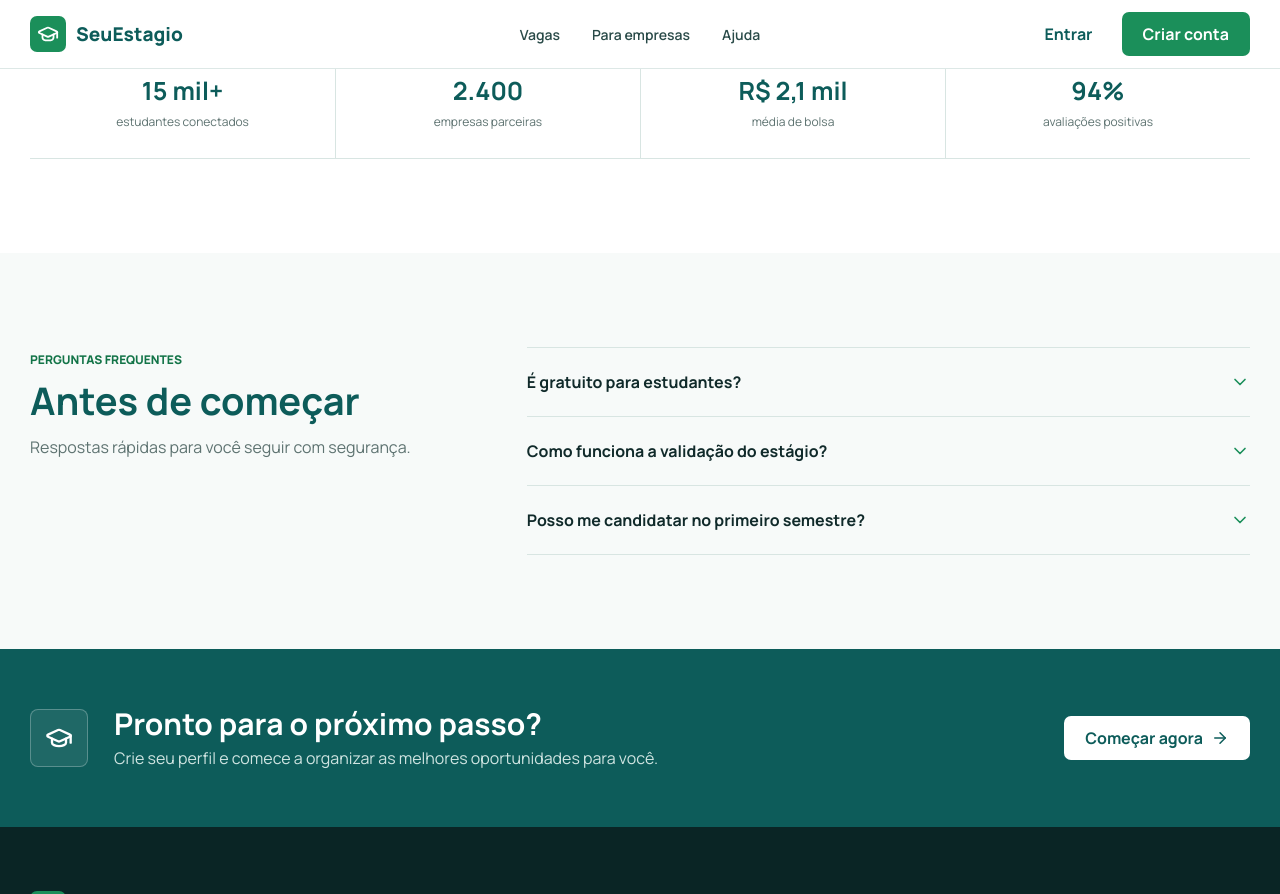
Test: expands one frequently asked question
(page scrolled)
Click the button "Como funciona a validação do estágio?": [677, 450] box [527,416,1250,484]
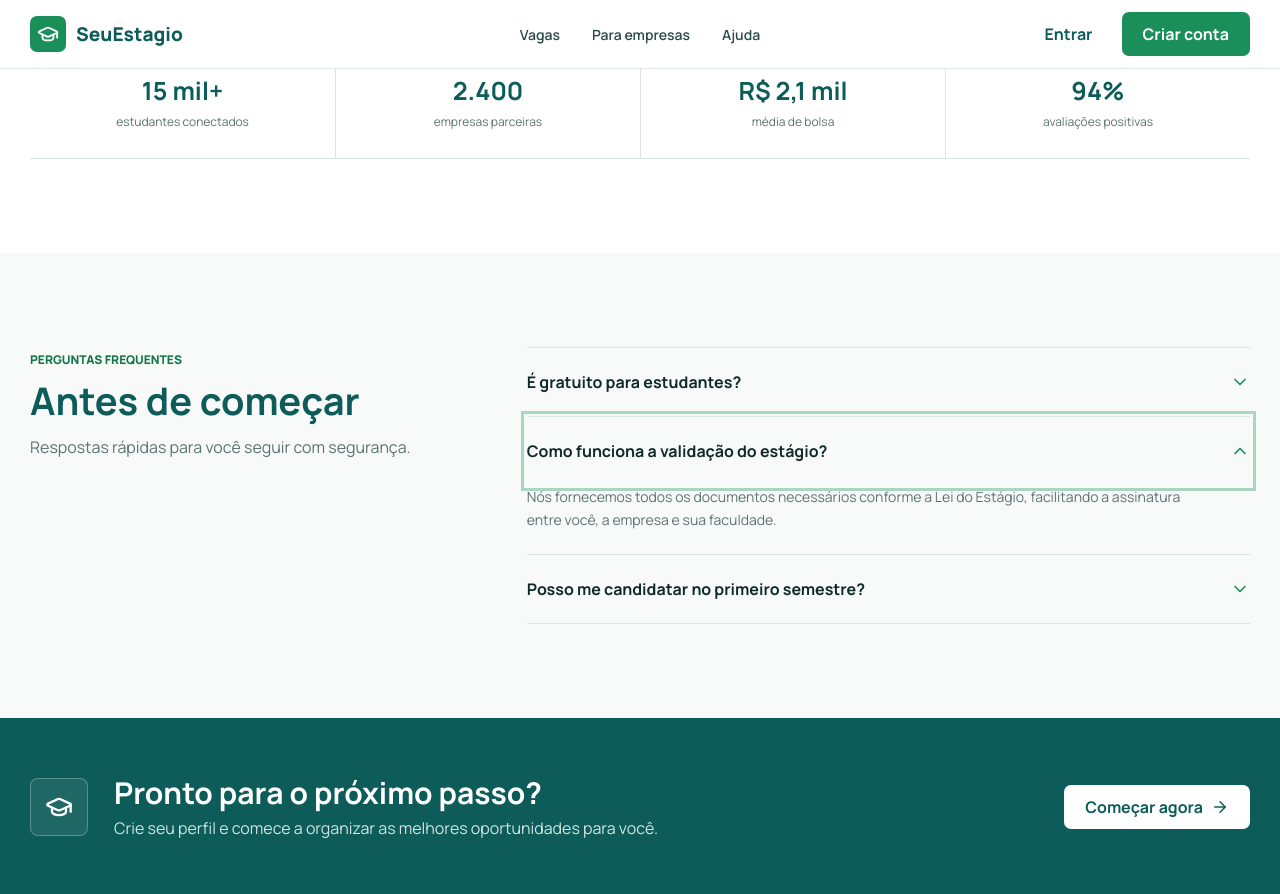
Now the button "Como funciona a validação do estágio?" is expanded, box [527,416,1250,484]
Now the text "fornecemos todos os documentos necessários" is shown, box [527,486,1180,529]
